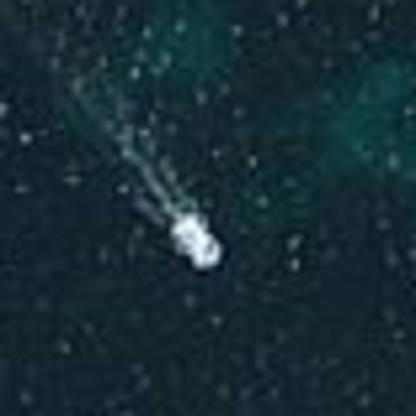ship: (163, 207, 227, 275)
